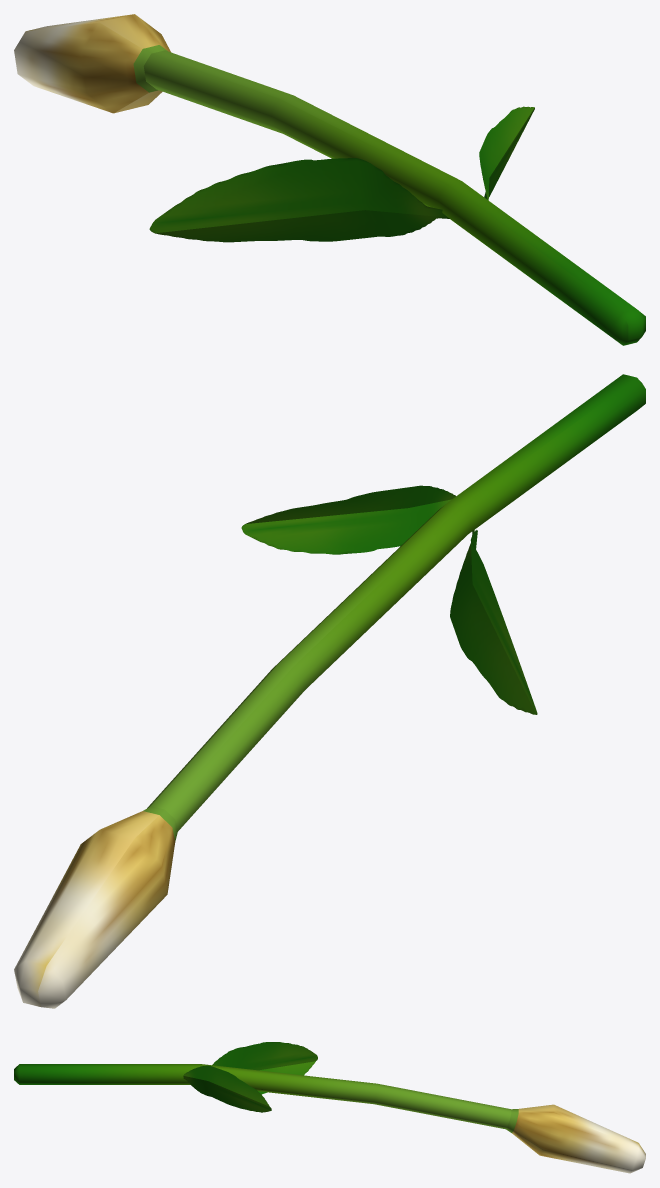
Rendered from SM_Lilly_White_Closed.fbx.
3 views of the same model, one above another, from view 1: azimuth 30°, elevation 25°; view 2: azimuth 150°, elevation 25°; view 3: azimuth 270°, elevation 25° (orthographic). The views are drawn at different scales.
Parts seen in each view (by area): view 1: Lilly_White_Closed; view 2: Lilly_White_Closed; view 3: Lilly_White_Closed.
Part boxes in pixels (box(x1,y1,x2,y2)): Lilly_White_Closed: box(14, 14, 645, 345); Lilly_White_Closed: box(14, 374, 645, 1008); Lilly_White_Closed: box(14, 1042, 645, 1173).
Bounding box in the file's own units: 22.72 × 13.99 × 66.1.
